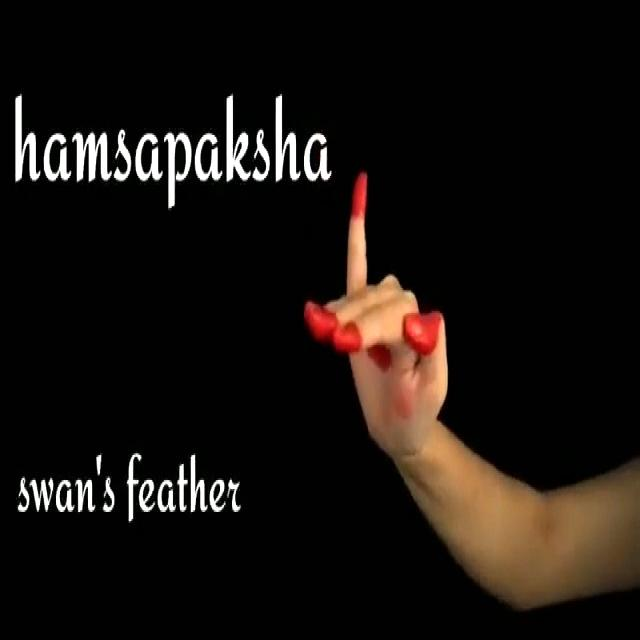Hamsapaksha: (293, 166, 480, 466)
text: (7, 80, 334, 214), (10, 452, 250, 536)
